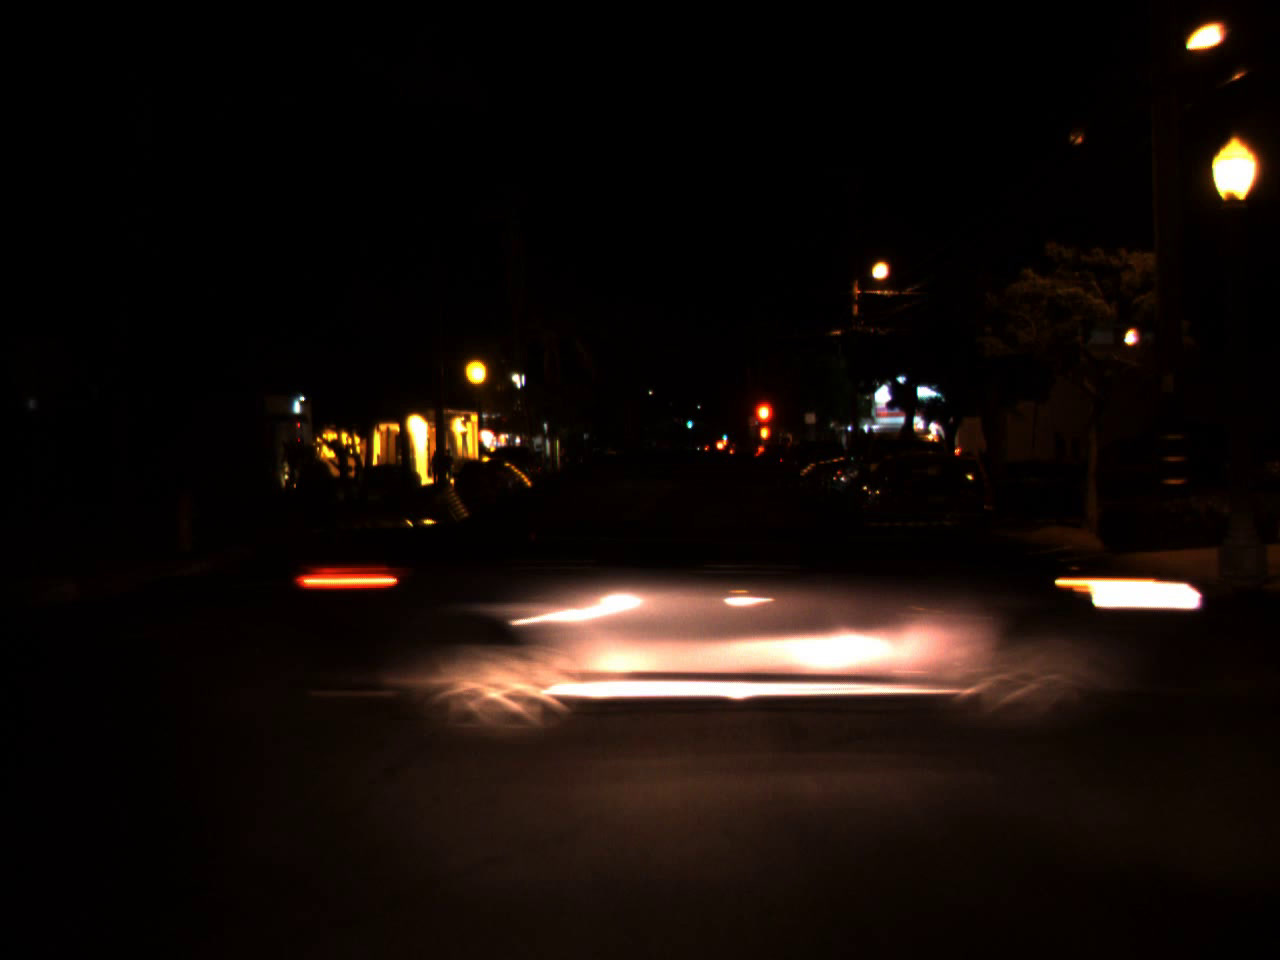go: (685, 414, 694, 429), (721, 429, 728, 441)
stop: (752, 399, 776, 447)
